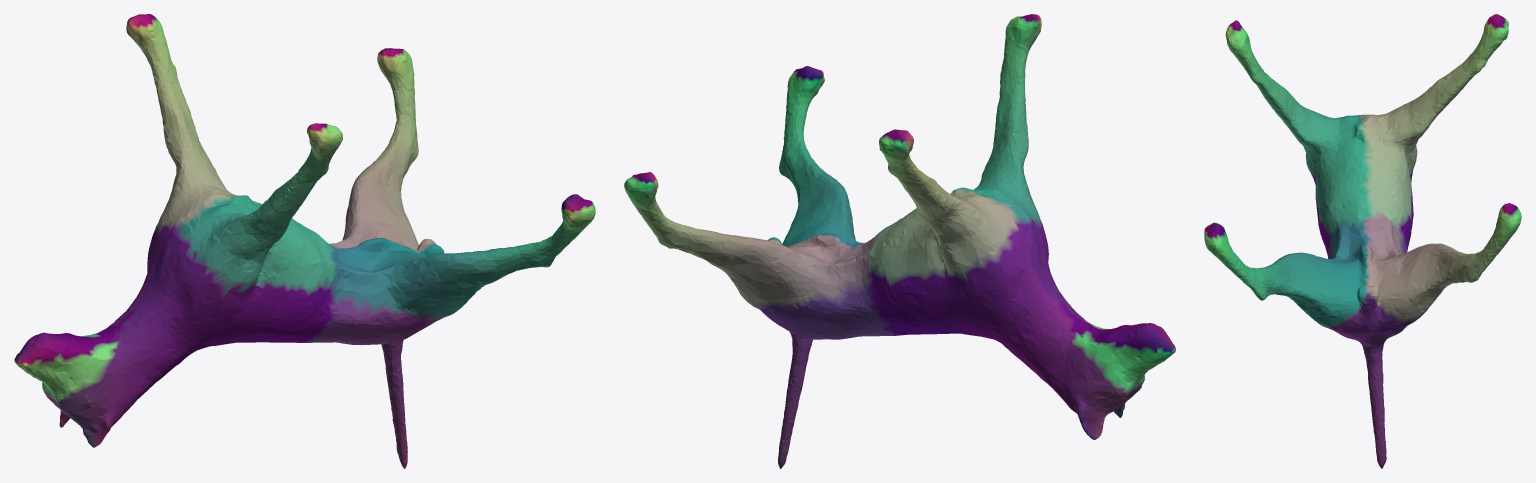
File: dog2-17.off.obj
3 renders of one model, left to right at view 1: azimuth 30°, elevation 25°; view 2: azimuth 150°, elevation 25°; view 3: azimuth 270°, elevation 25°, orthographic. The views are drawn at different scales.
Bounding box in the file's own units: 1.56 × 1.37 × 1.05.
